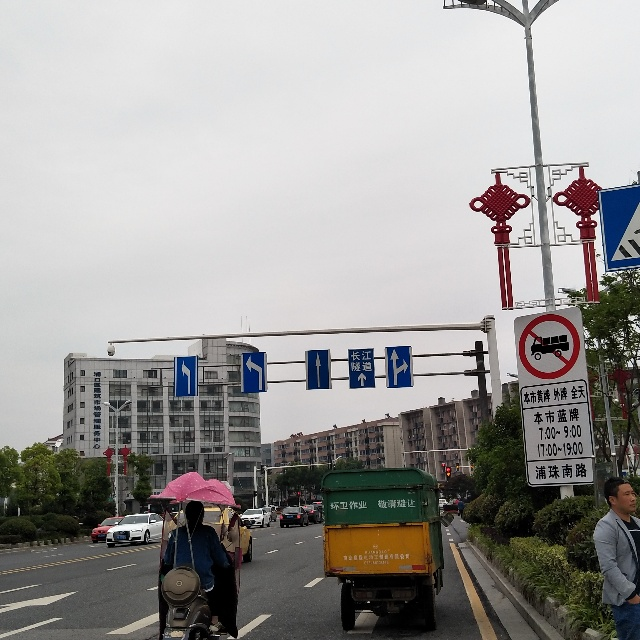left: (240, 353, 267, 392), (176, 357, 196, 400)
straight: (309, 348, 328, 387), (351, 371, 374, 388)
